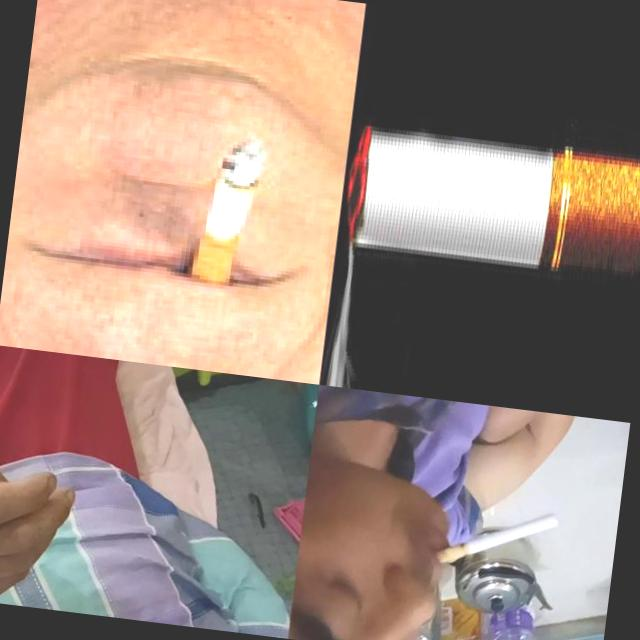smoke: (341, 128, 640, 286), (189, 137, 267, 295), (433, 500, 559, 575), (0, 503, 17, 601)
